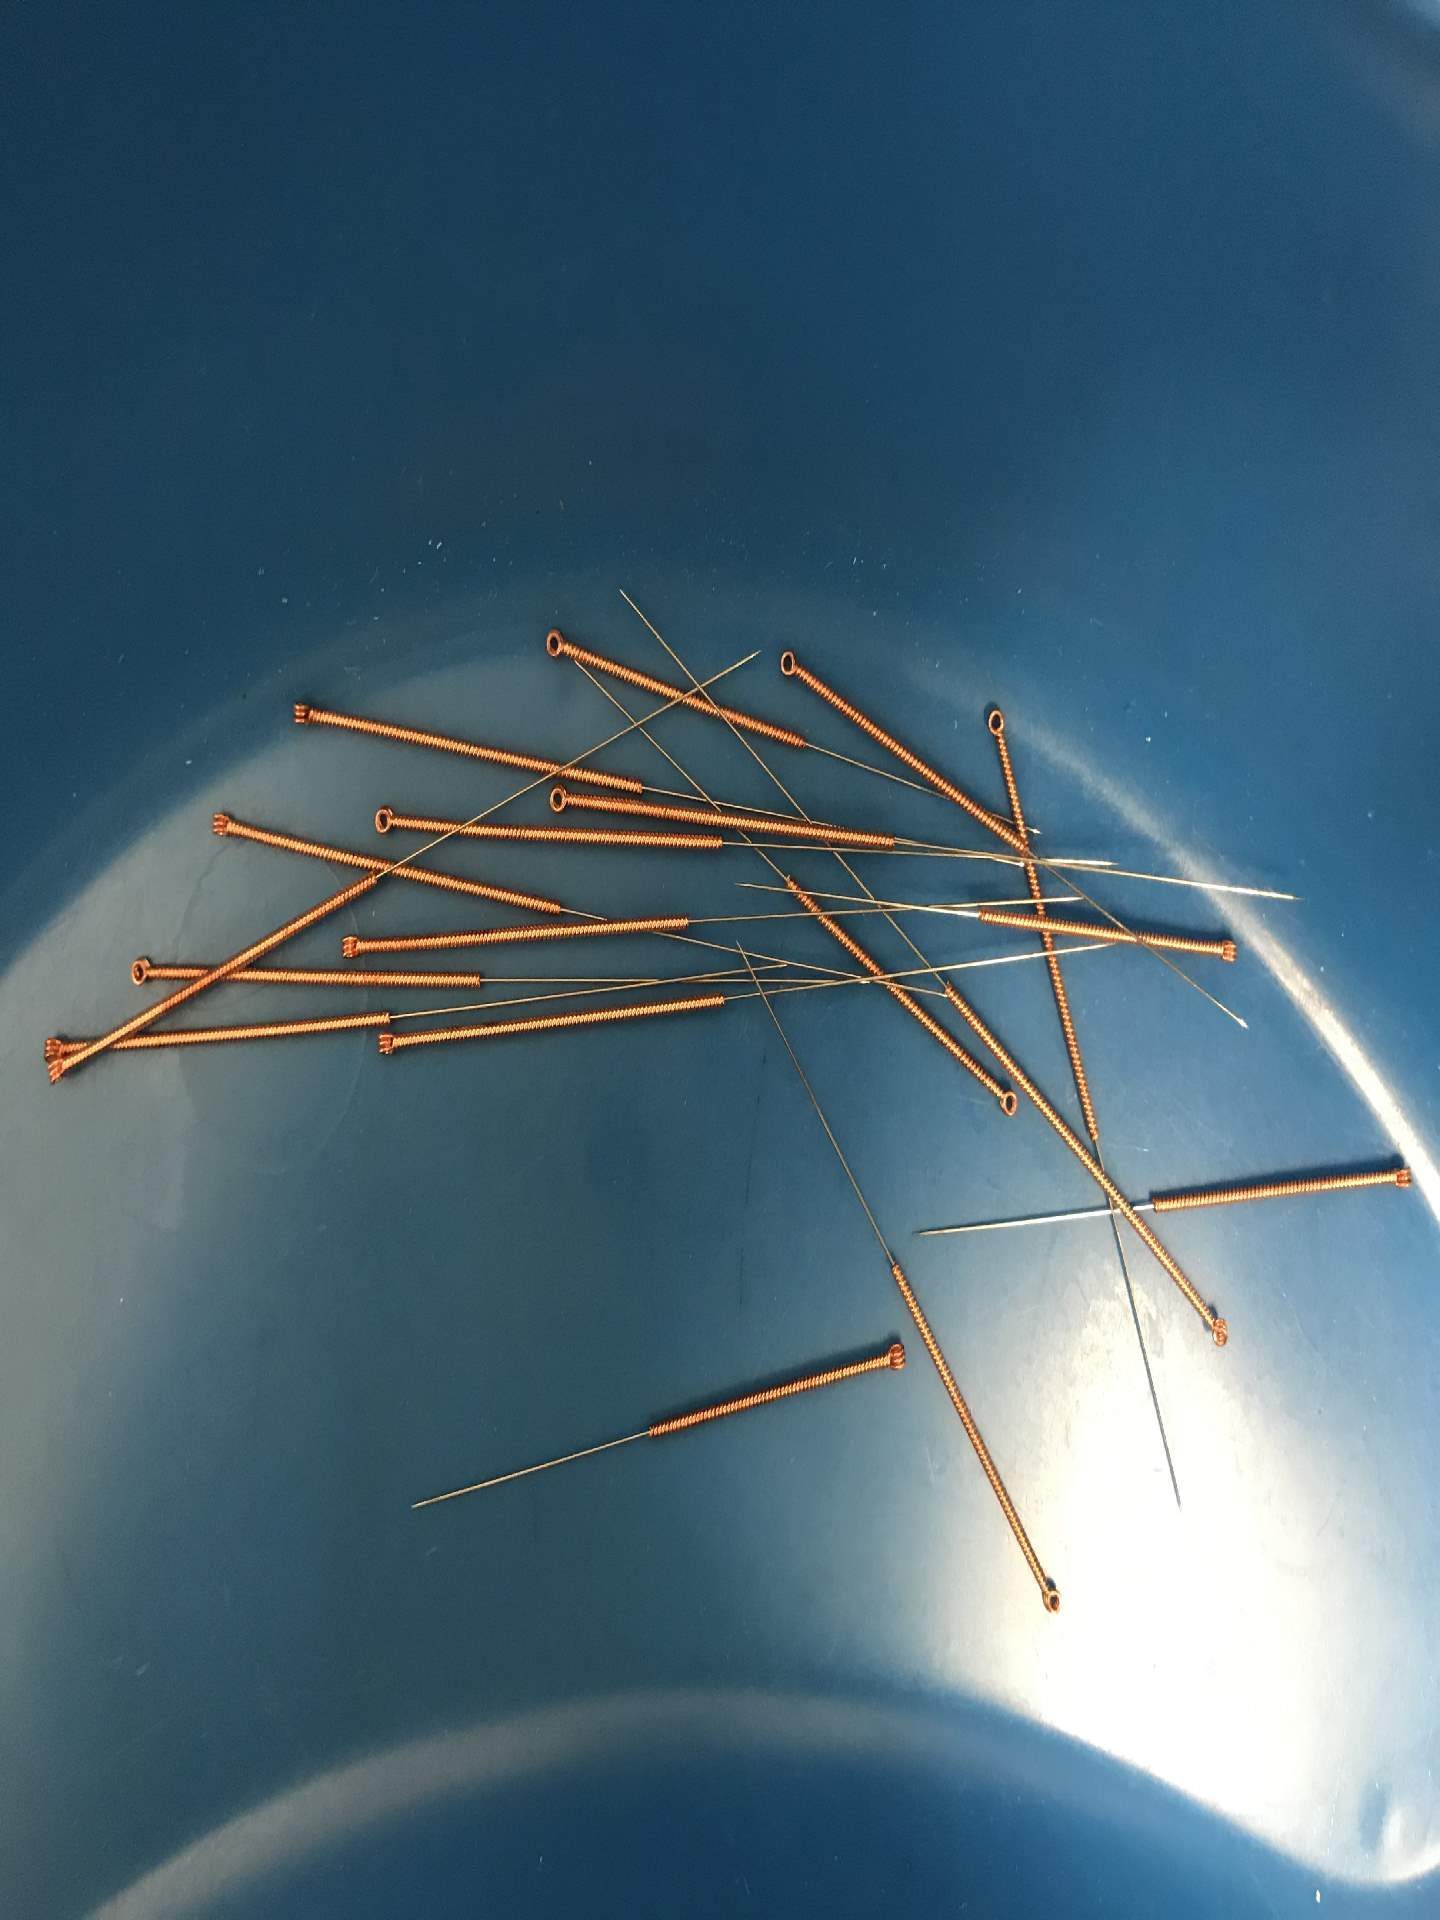needle: (200, 803, 245, 848), (121, 949, 163, 995), (535, 623, 576, 668), (768, 643, 809, 686), (362, 798, 402, 842), (1379, 1157, 1422, 1197), (538, 779, 579, 821), (281, 692, 321, 736), (1032, 1574, 1068, 1621), (331, 927, 372, 966), (1199, 1305, 1234, 1350), (876, 1336, 914, 1377), (979, 700, 1012, 745), (369, 1027, 407, 1066), (989, 1082, 1026, 1123), (1207, 930, 1243, 971), (36, 1031, 79, 1063), (41, 1054, 79, 1089)
